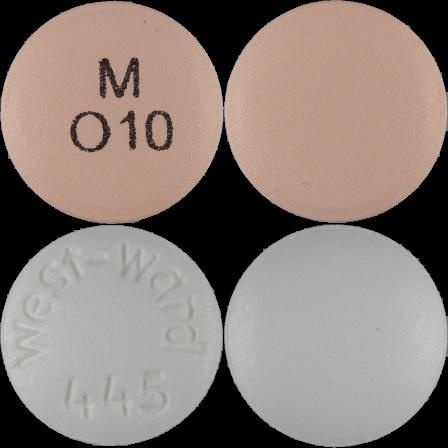76237-218: (0, 0, 224, 224)
